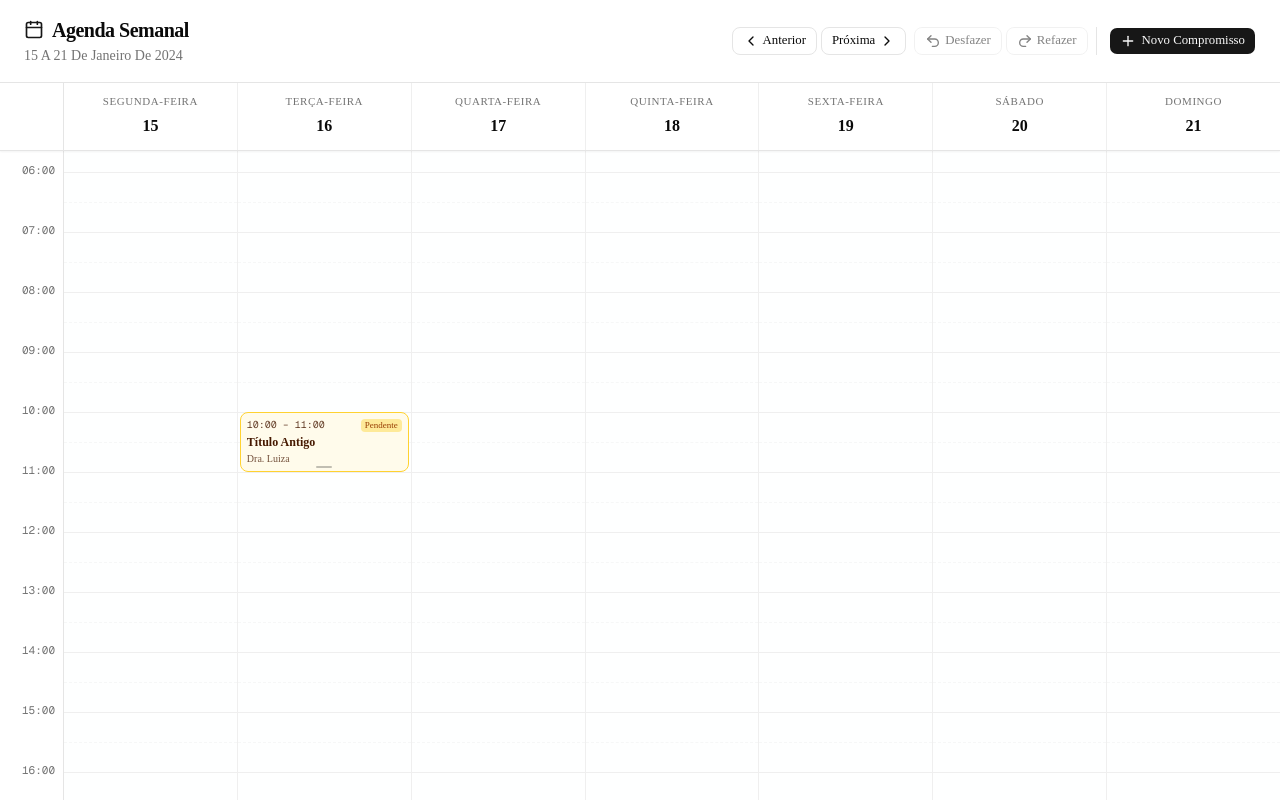
it: Appointment CRUD & Selection Integration › edits an existing appointment with current values prefilled and creates one history entry
(page scrolled)
// Select the card on grid
Click the button "10:00 – 11:00 Pendente Título Antigo Dra. Luiza" at (324, 442), box [240, 412, 409, 472]
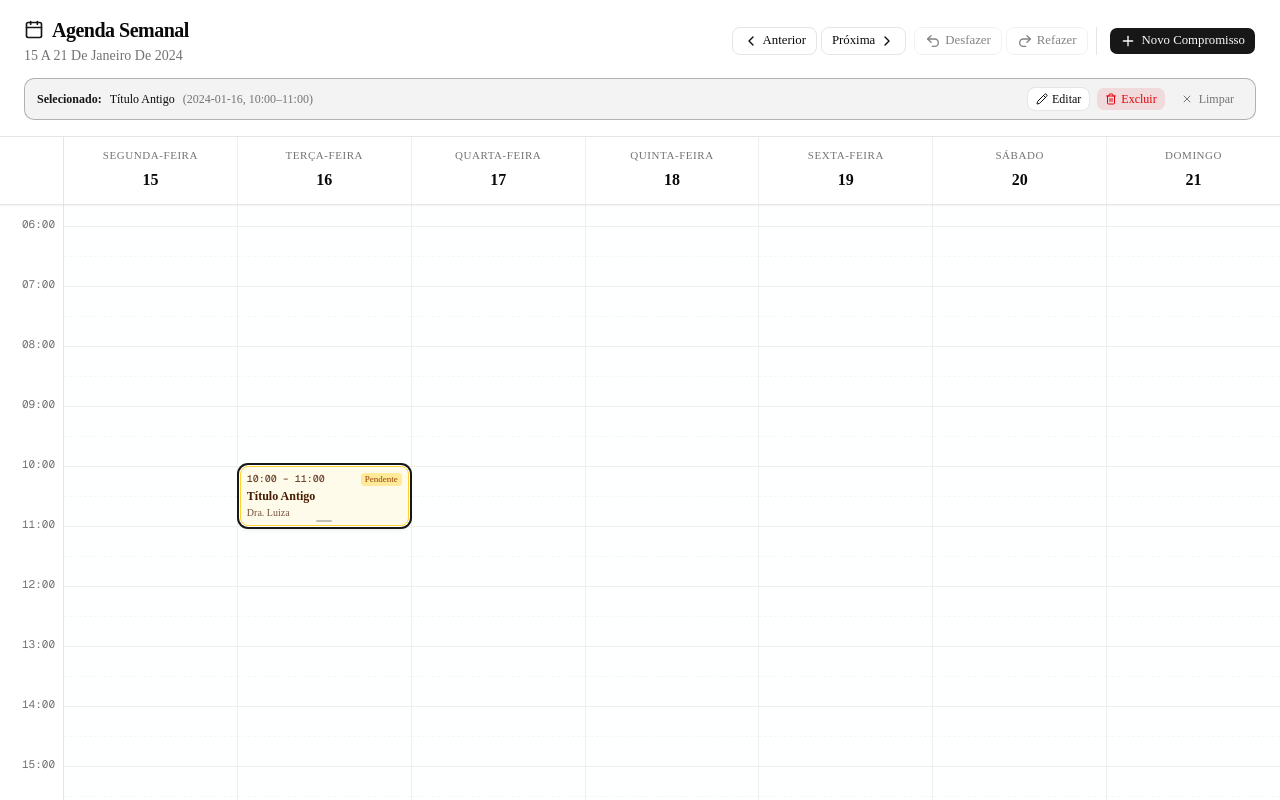
// Click "Editar" in the header
Click the button with aria-label "Editar compromisso Título Antigo" at (1059, 99), box [1027, 87, 1090, 111]
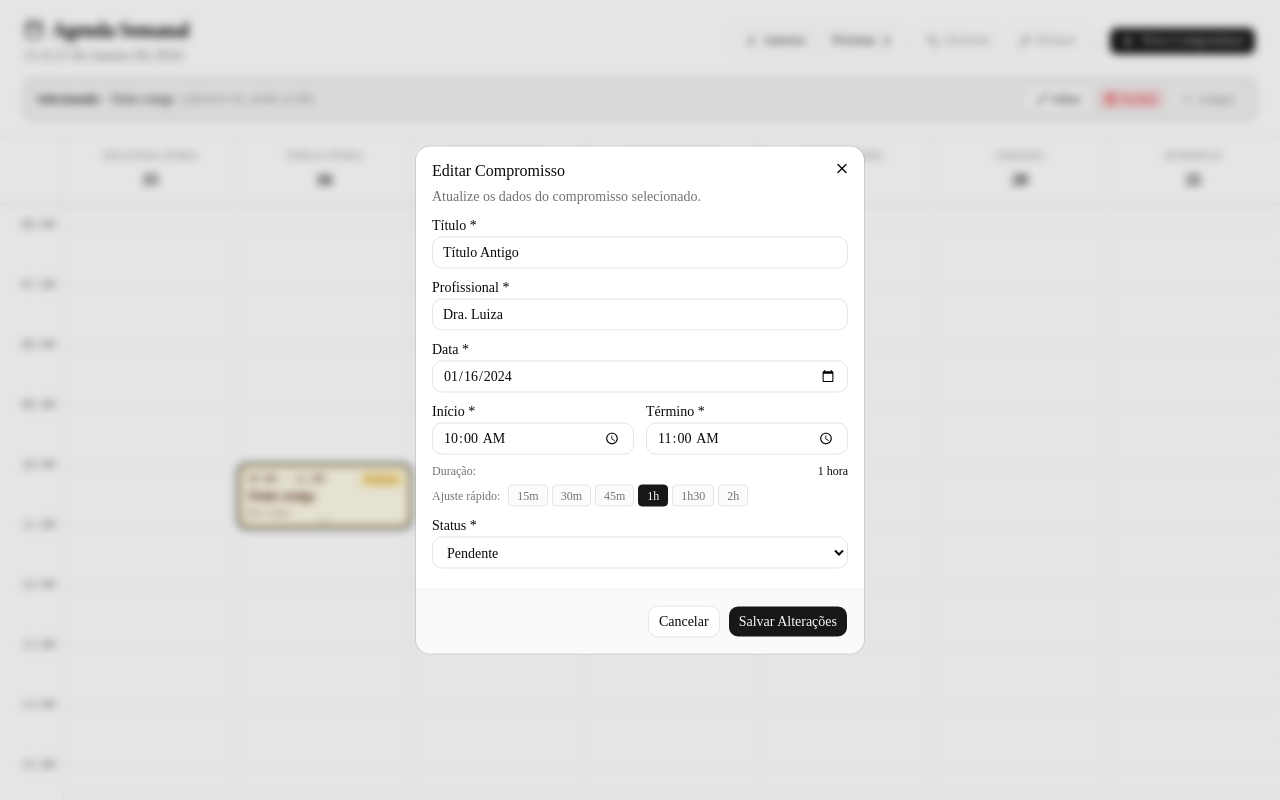
Now the heading "Editar Compromisso" is shown, box [432, 162, 565, 178]
Now the field labelled "Título *" holds "Título Antigo"
Now the field labelled "Profissional *" holds "Dra. Luiza", box [432, 298, 848, 330]
// Modify title
Replace the text in the field labelled "Título *" with "Título Novo Atualizado" at (640, 252), box [432, 236, 848, 268]
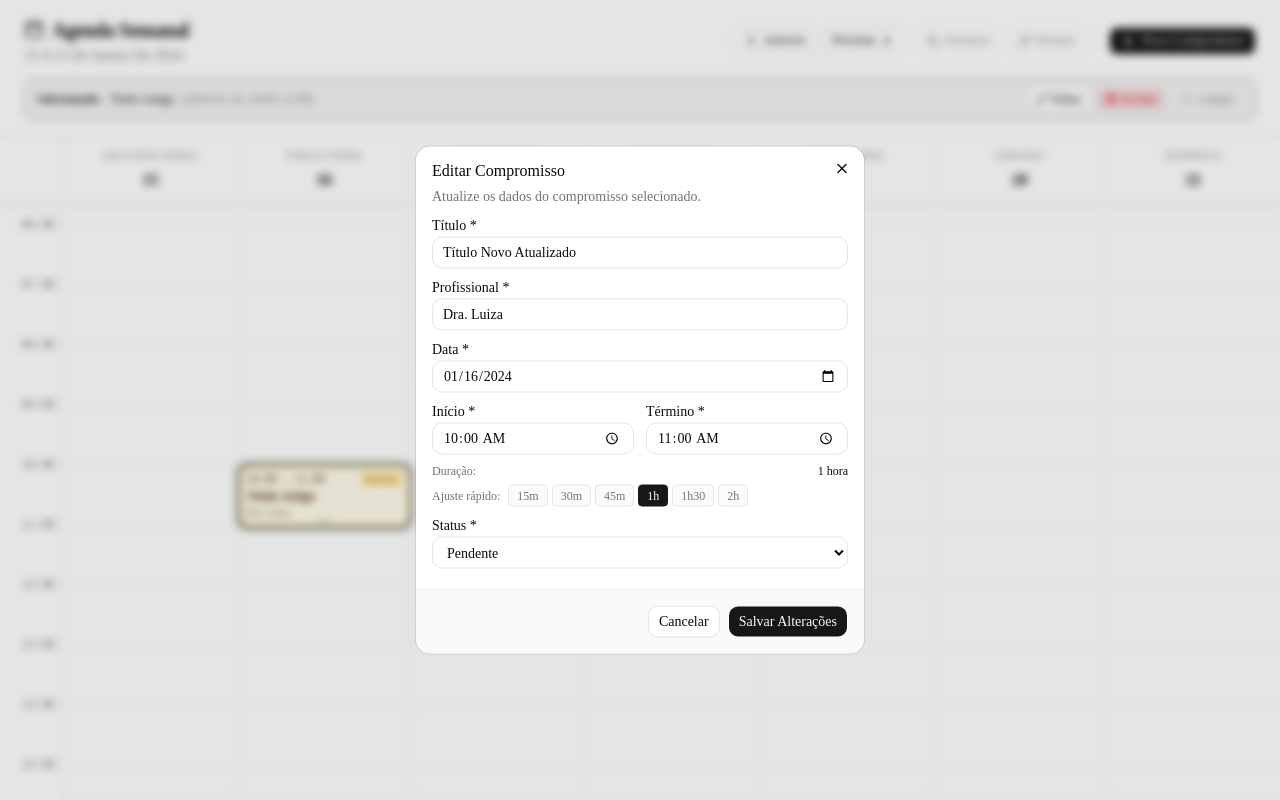
Click the button "Salvar Alterações" at (788, 622), box [728, 606, 848, 638]
(page scrolled)
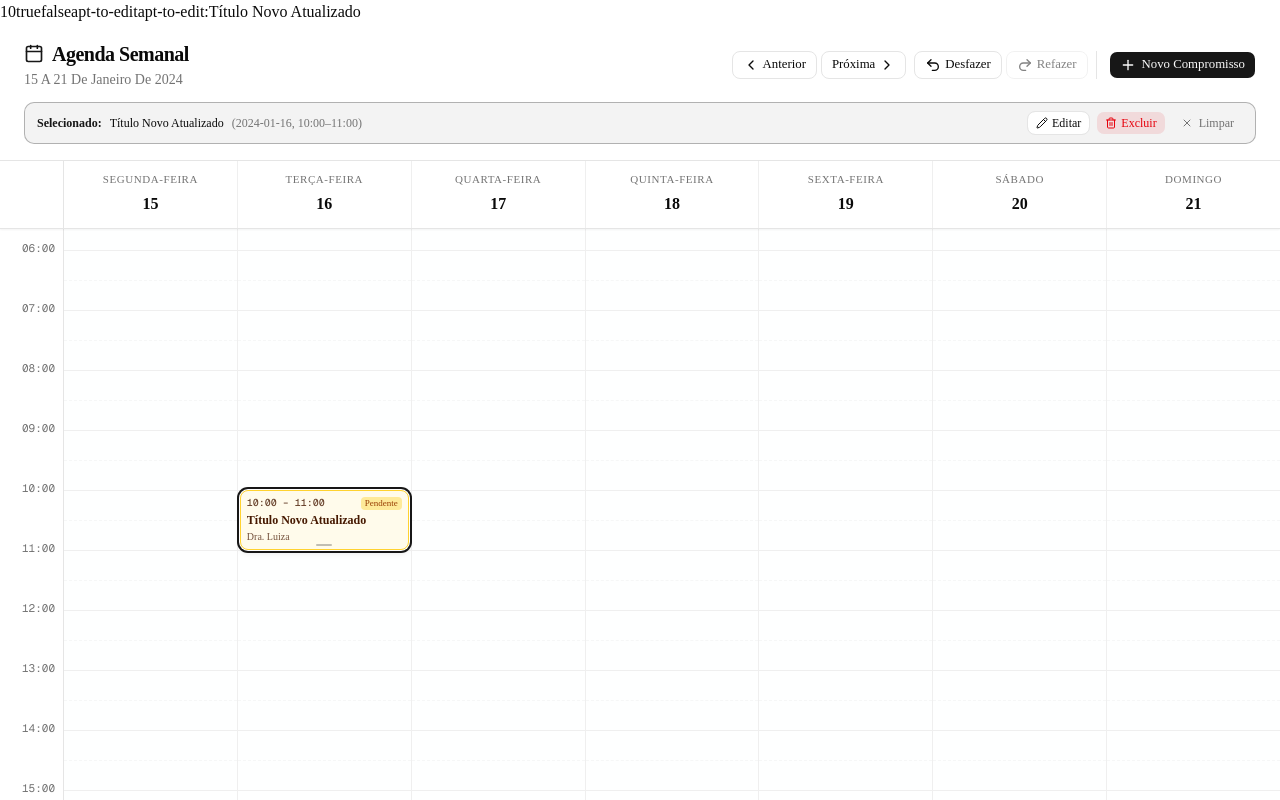
Now the text "Título Antigo" is gone
Now the text with test id "past-count" reads "1", box [0, 3, 8, 20]
